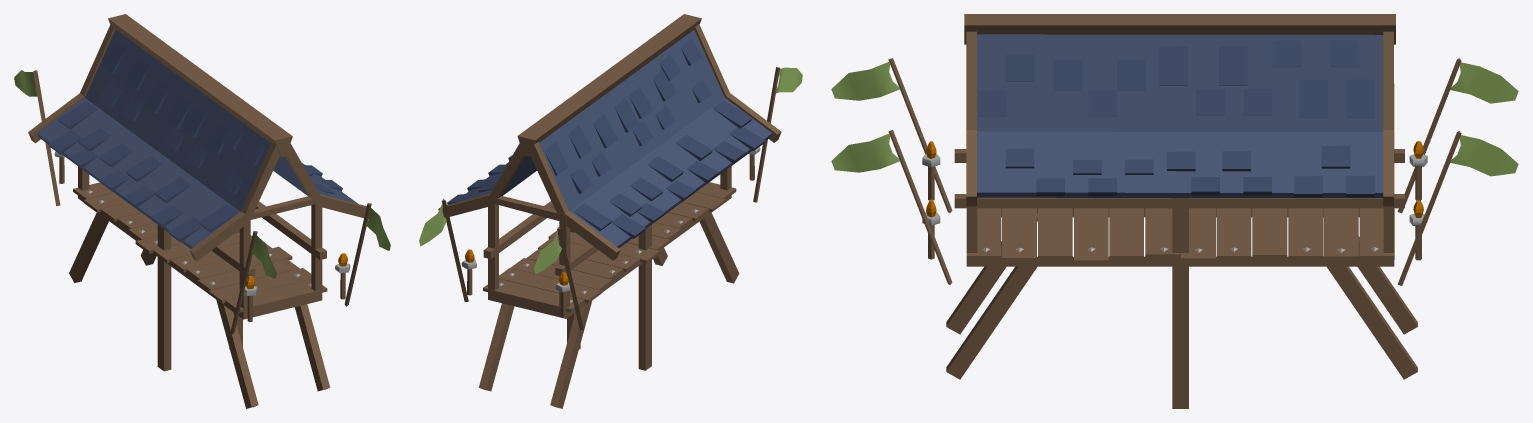
Rendered from pont_3.fbx.
The picture shows the model from 3 angles, left to right: view 1: azimuth 30°, elevation 25°; view 2: azimuth 150°, elevation 25°; view 3: azimuth 270°, elevation 25°; orthographic projection. The views are drawn at different scales.
Parts seen in each view (by area): view 1: pCube83, pCube84, pCube77, pCube76, pCube69, pCylinder19 (×3), pPlane2 (×3), pCube71, pCube75, pCube65, pCube63, pCube61 (+26 smaller); view 2: pCube83, pCube84, pCube72, pCube73, pCube69, pPlane2 (×3), pCylinder19 (×3), pCube66, pCube52, pCube56, pCube68, pCube49 (+25 smaller); view 3: pCube82, pCube84, pPlane2 (×4), pCube59, pCube100 (×4), pCube70, pCylinder19 (×4), pCube98 (×3), pCube67, pCube68, pCube65, pCube95 (×3) (+21 smaller).
Part boxes in pixels (x1,y1,x2,y2): pCube83: [37, 29, 271, 248]; pCube84: [108, 14, 292, 156]; pCube77: [239, 196, 322, 319]; pCube76: [189, 142, 279, 261]; pCube69: [157, 225, 171, 371]; pCylinder19 (×3): [33, 70, 371, 334]; pPlane2 (×3): [14, 70, 390, 278]; pCube71: [216, 300, 258, 408]; pCube75: [285, 143, 369, 218]; pCube65: [294, 304, 330, 391]; pCube63: [225, 279, 327, 312]; pCube61: [208, 268, 311, 303]; pCube83: [539, 30, 772, 247]; pCube84: [517, 14, 701, 156]; pCube72: [488, 196, 570, 318]; pCube73: [530, 142, 620, 260]; pCube69: [638, 224, 651, 370]; pPlane2 (×3): [419, 67, 802, 274]; pCylinder19 (×3): [441, 67, 780, 330]; pCube66: [550, 301, 591, 408]; pCube52: [483, 279, 584, 312]; pCube56: [438, 143, 525, 217]; pCube68: [479, 303, 514, 391]; pCube49: [499, 268, 601, 302]; pCube82: [977, 34, 1383, 197]; pCube84: [964, 14, 1395, 44]; pPlane2 (×4): [831, 61, 1518, 176]; pCube59: [954, 194, 1404, 208]; pCube100 (×4): [1294, 79, 1374, 197]; pCube70: [1172, 198, 1188, 408]; pCylinder19 (×4): [888, 58, 1461, 285]; pCube98 (×3): [1159, 46, 1250, 171]; pCube67: [966, 208, 1393, 266]; pCube68: [1325, 260, 1417, 379]; pCube65: [946, 261, 1038, 379]; pCube95 (×3): [1005, 54, 1350, 168].
Size of the model in its own units: 4.02 by 6.06 by 10.35.
